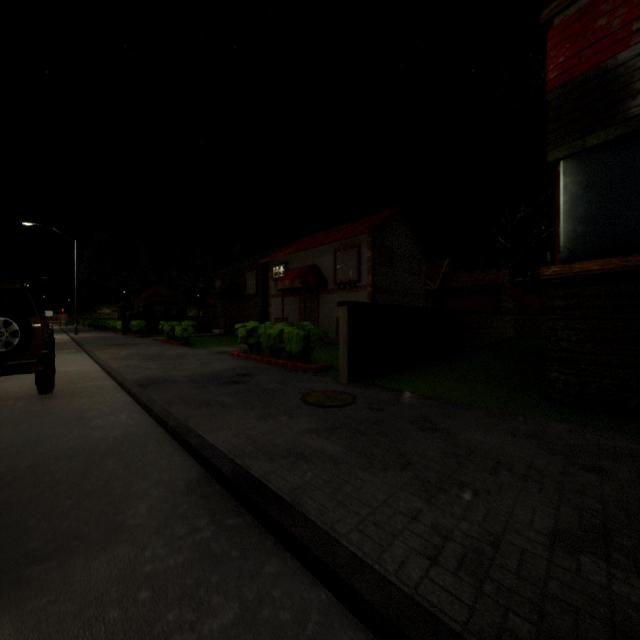Vehicle: (0, 283, 55, 394)
traffic_light: (61, 307, 65, 314)
